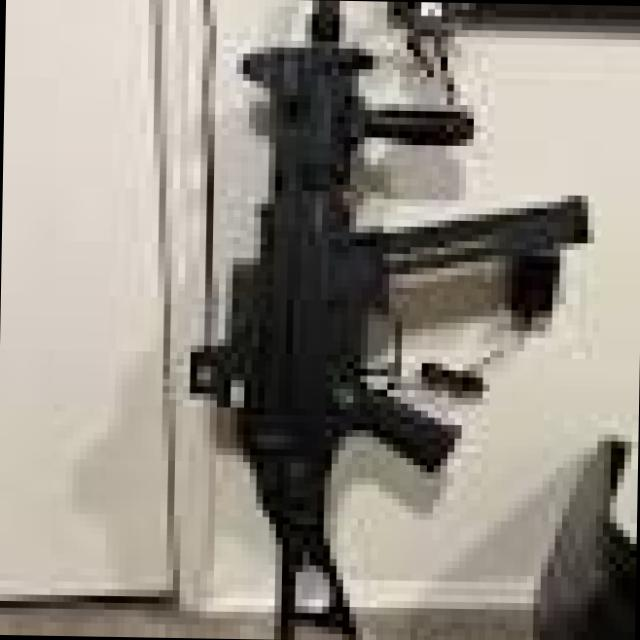Gun: (192, 0, 591, 640)
